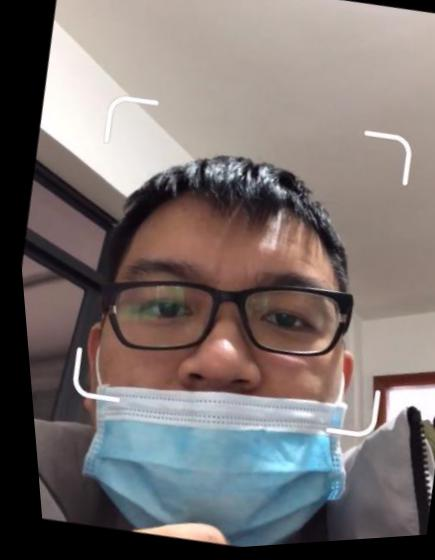WRONG: (53, 214, 378, 558)
